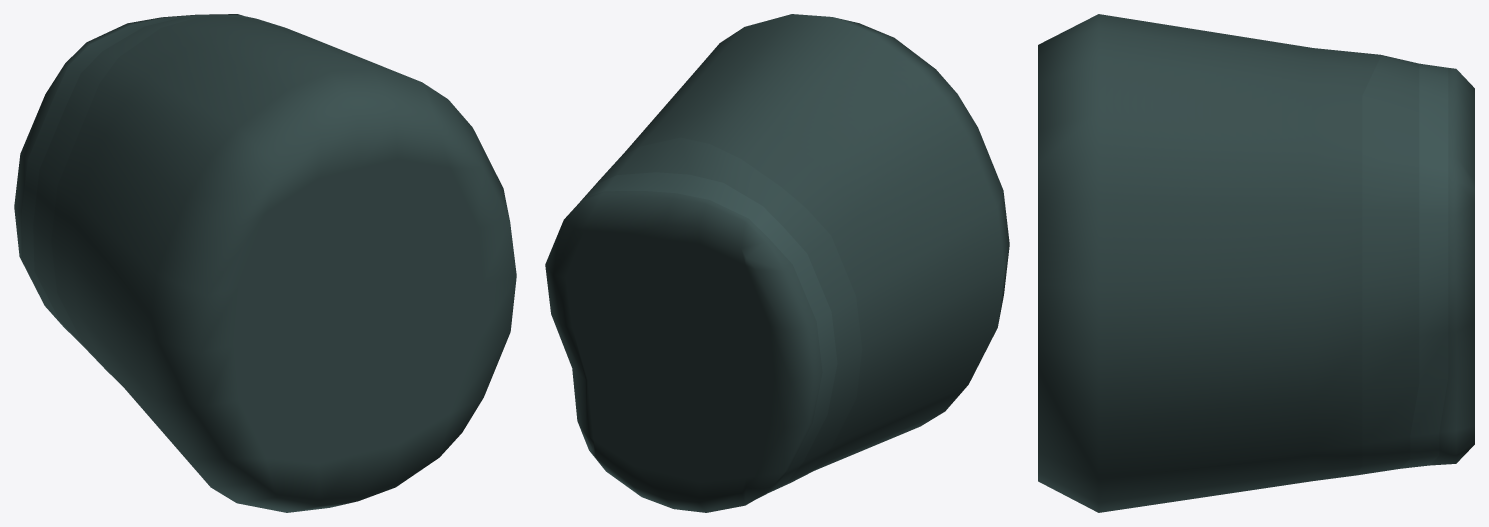
Rendered from AlienPlateuTiny.002.glb.
The picture shows the model from 3 angles, left to right: view 1: azimuth 30°, elevation 25°; view 2: azimuth 150°, elevation 25°; view 3: azimuth 270°, elevation 25°; orthographic projection. The views are drawn at different scales.
Visible parts, largest first — view 1: AlienPlateuTiny.002; view 2: AlienPlateuTiny.002; view 3: AlienPlateuTiny.002.
Part boxes in pixels (bbox=[...]): AlienPlateuTiny.002: bbox=[14, 14, 516, 512]; AlienPlateuTiny.002: bbox=[545, 14, 1009, 512]; AlienPlateuTiny.002: bbox=[1038, 14, 1474, 512].
Bounding box in the file's own units: 1264 × 1453 × 1236.
